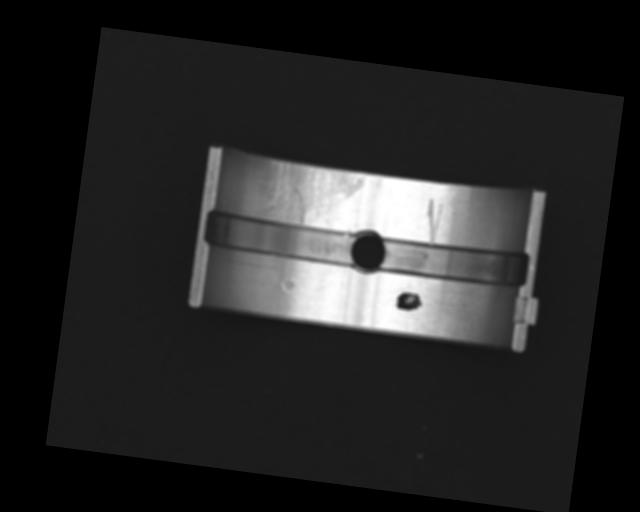blot: (395, 291, 424, 314)
bruise: (280, 275, 295, 293)
gap: (201, 208, 358, 267), (380, 236, 529, 289)
hole: (348, 228, 388, 276)
nick: (421, 198, 444, 247)
scratch: (259, 157, 366, 234)
